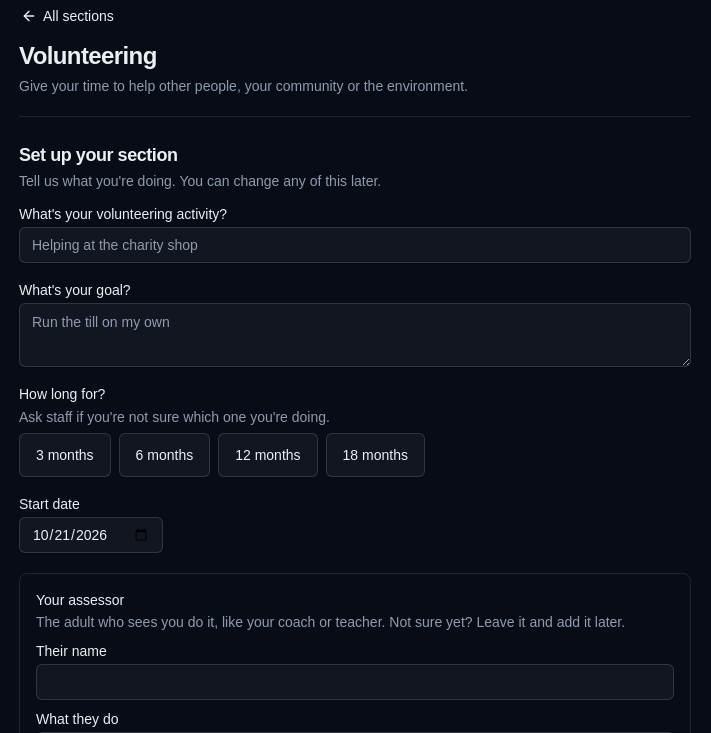
setting a section up › saves the plan, starting today unless they change it, then shows the log
The width and height of the screenshot is (711, 733).
Type "Charity shop" into the field labelled "What's your volunteering activity?". click: coordinates (355, 245)
box: [19,227,691,263]
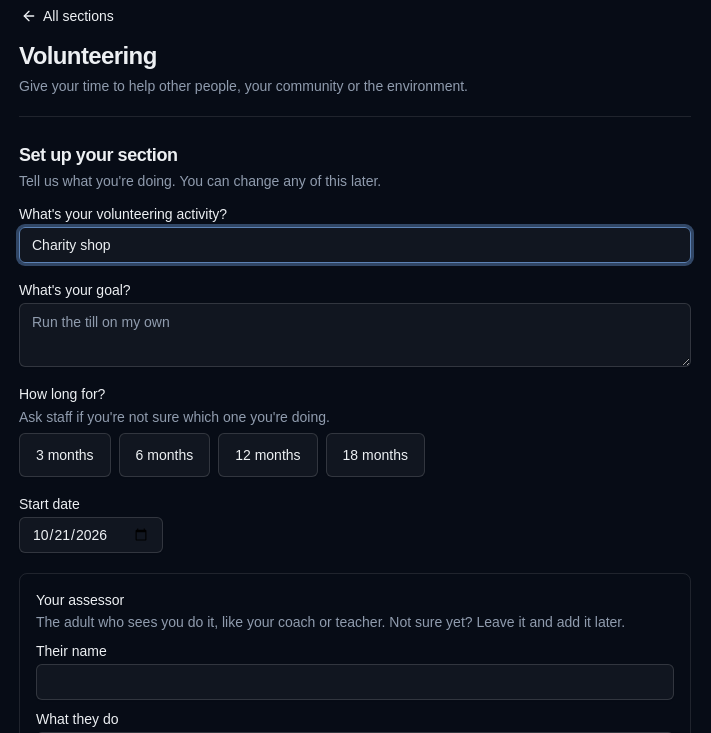
Type "Run the till" into the text box labelled "What's your goal?". click: coordinates (355, 335)
box: [19,303,691,367]
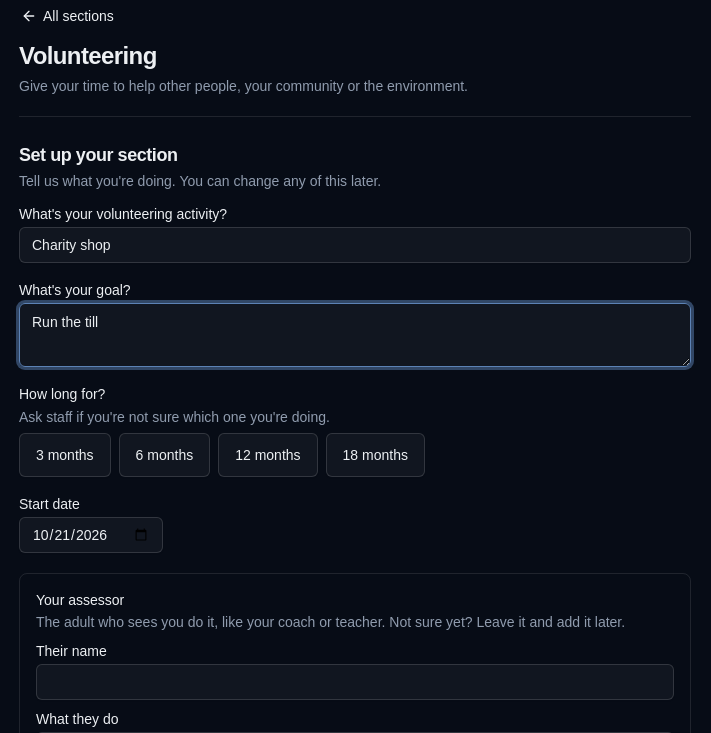
Click the button "6 months". click: coordinates (164, 455)
box: [119,433,210,477]
(page scrolled)
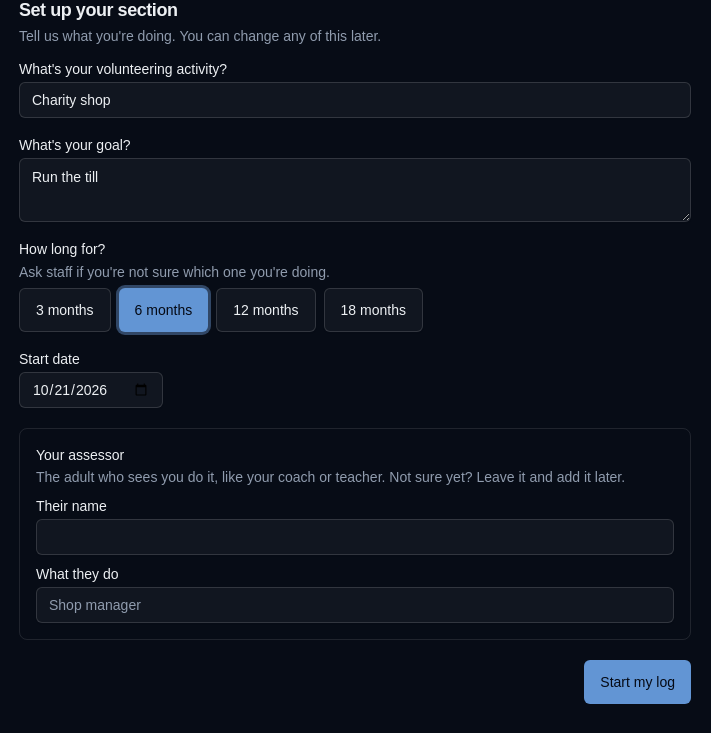
Click the button "Start my log". click: coordinates (638, 682)
box: [584,660,691,704]
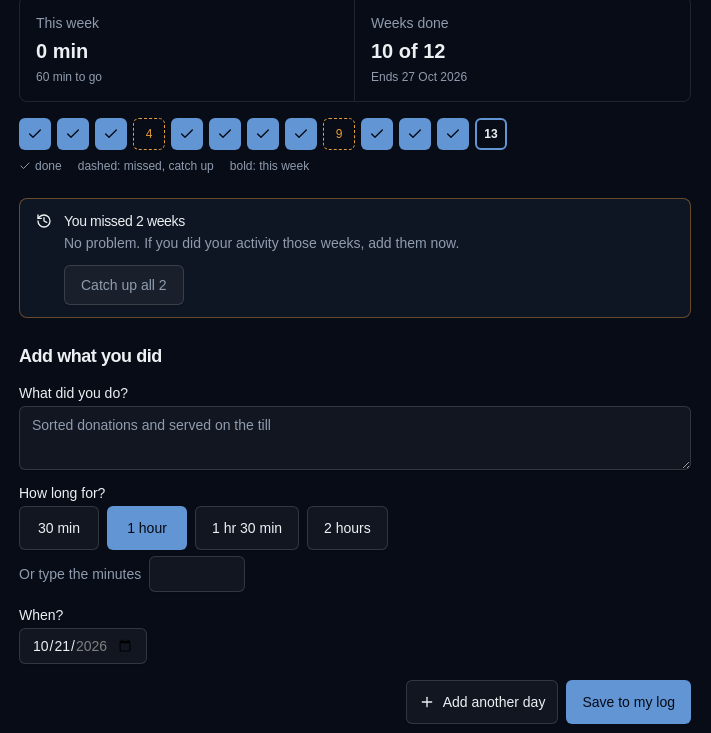
Result: the heading "Add what you did" is shown at [19,342,162,370]
